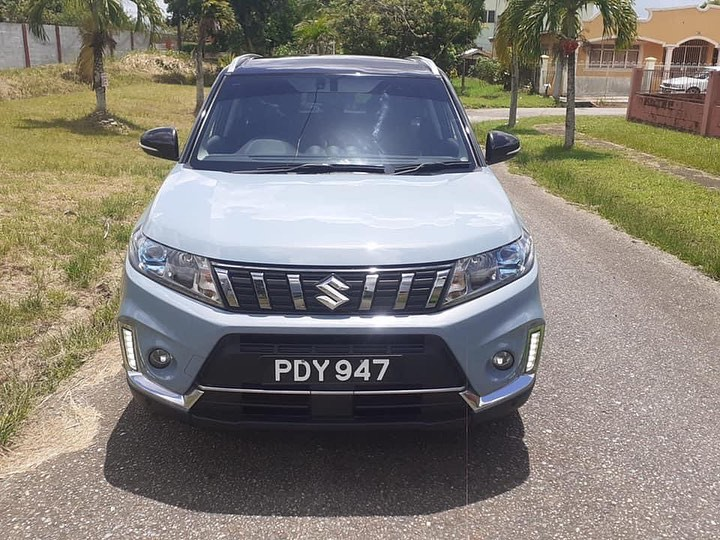License-Plate: (260, 357, 402, 384)
